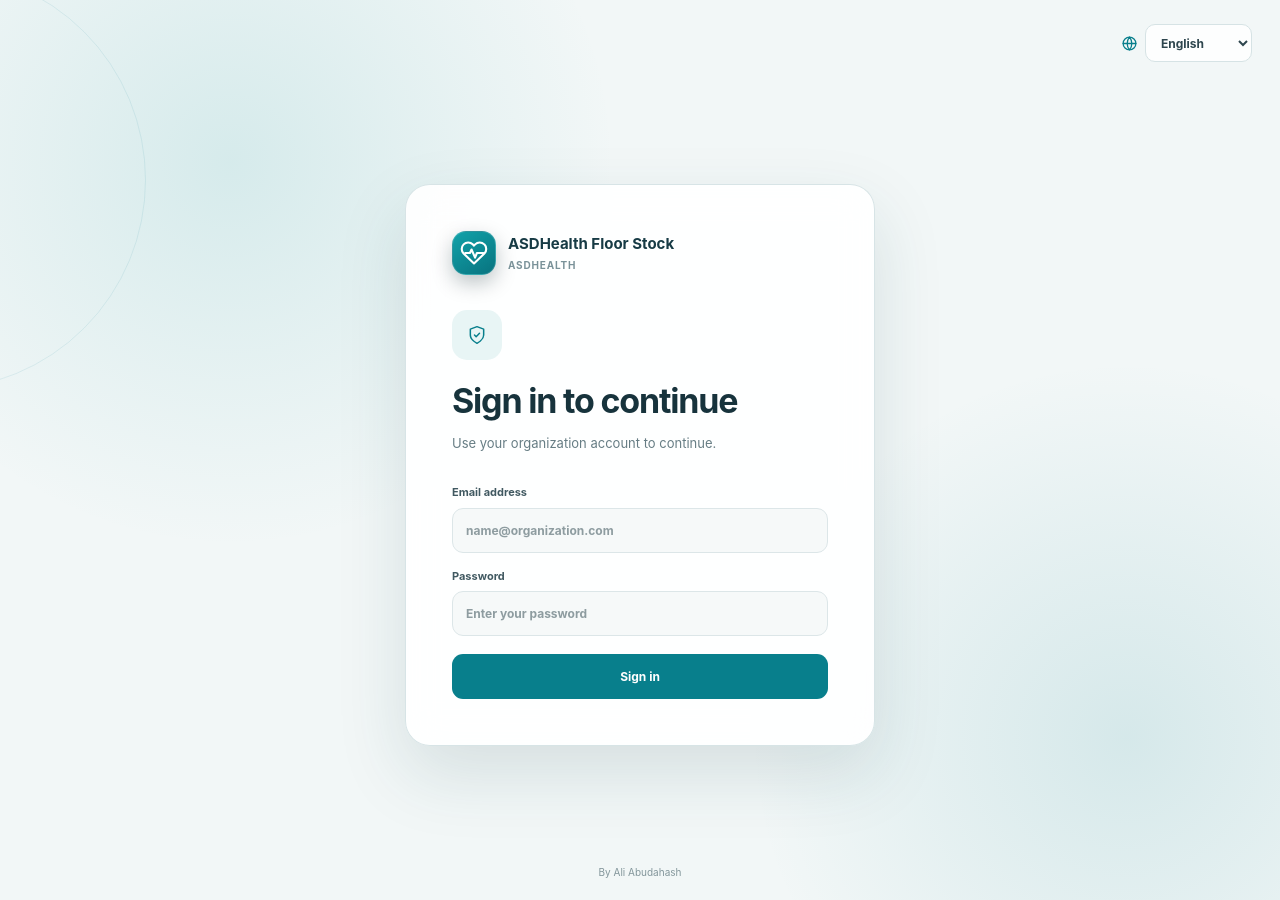
Test: authentication boundary › validates email and required password before sign-in
The image size is (1280, 900).
In the field labelled "Email address": (640, 530) [452,508,828,553], type "invalid-email"
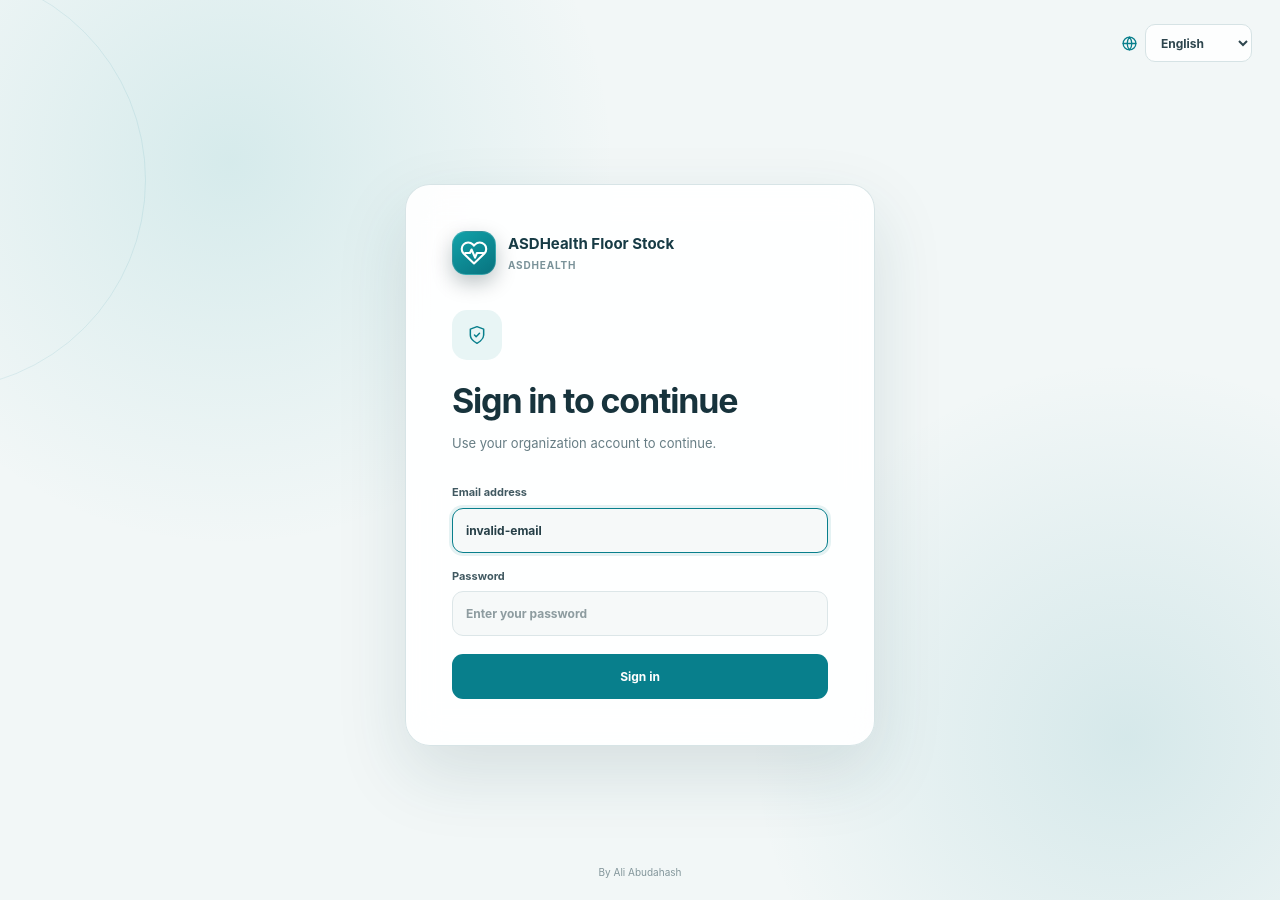
Click the button "Sign in": (640, 677) [452,654,828,699]
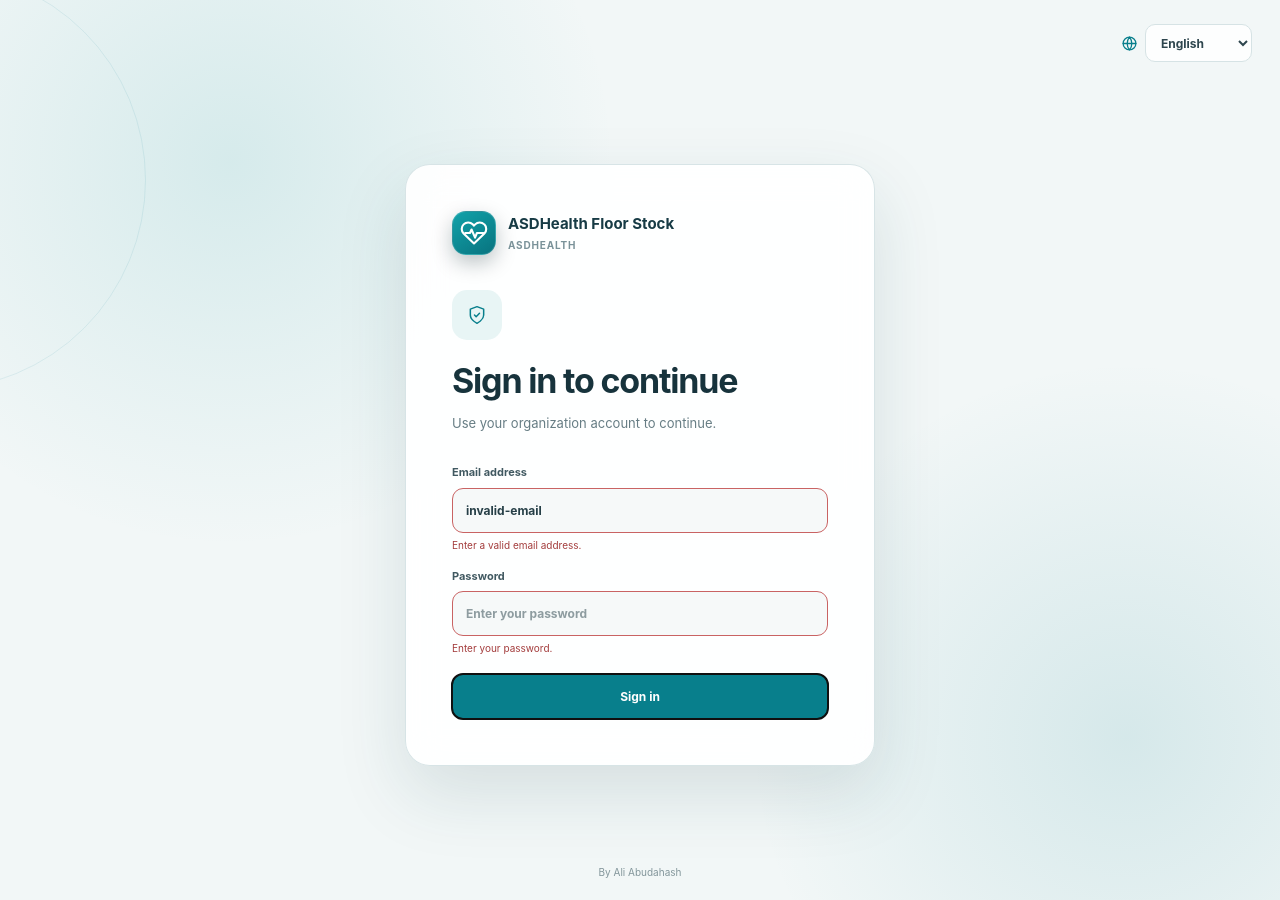
Check: the text "Enter a valid email address." is shown, box [452,539,582,551]
Check: the text "Enter your password." is shown, box [452,642,552,654]
